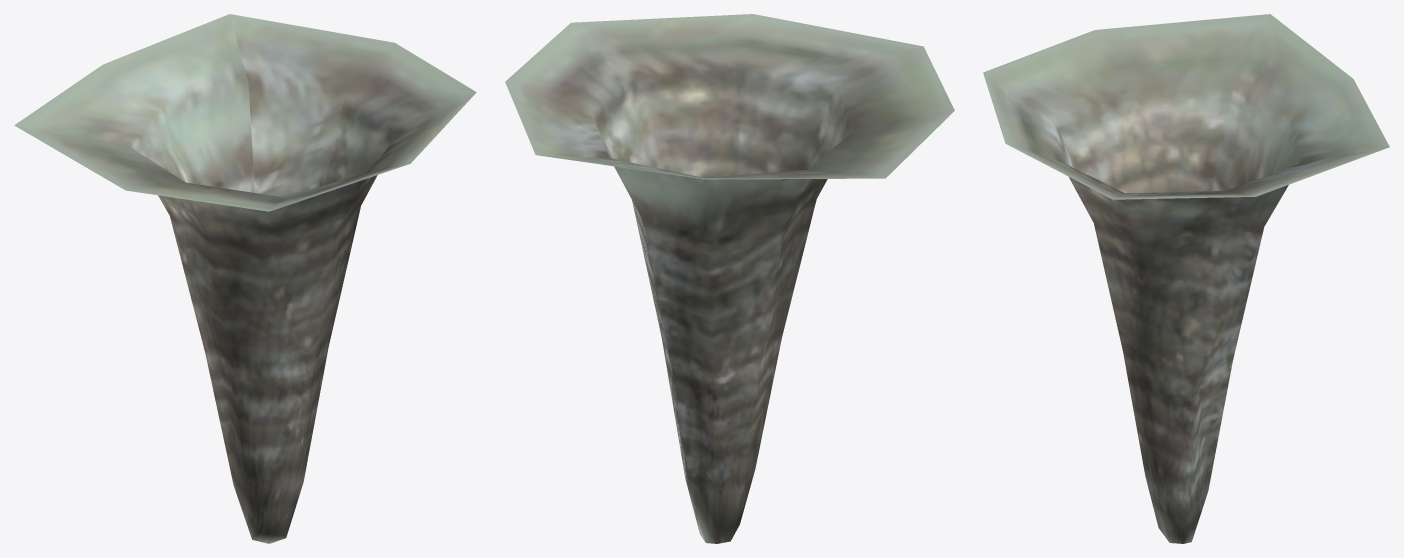
File: TROLLHOLE02_PS-MAINSTALAG77.fbx
3 renders of one model, left to right at view 1: azimuth 30°, elevation 25°; view 2: azimuth 150°, elevation 25°; view 3: azimuth 270°, elevation 25°, orthographic. The views are drawn at different scales.
Visible parts, largest first — view 1: TROLLHOLE02_PS-MAINSTALAG77; view 2: TROLLHOLE02_PS-MAINSTALAG77; view 3: TROLLHOLE02_PS-MAINSTALAG77.
Part boxes in pixels (left/top/right/bottom): TROLLHOLE02_PS-MAINSTALAG77: left=14, top=14, right=476, bottom=543; TROLLHOLE02_PS-MAINSTALAG77: left=505, top=14, right=954, bottom=543; TROLLHOLE02_PS-MAINSTALAG77: left=983, top=14, right=1389, bottom=543.
Size of the model in its own units: 20880 by 22627 by 19514.
Materials: 1 (1 with a texture image).
